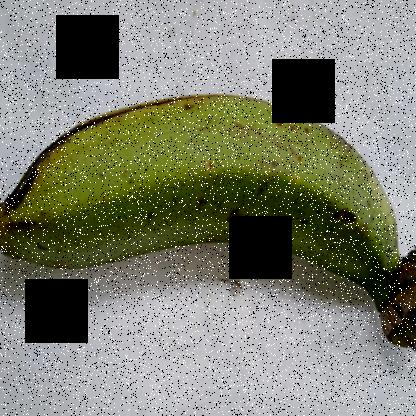unripe: (1, 62, 395, 315)
